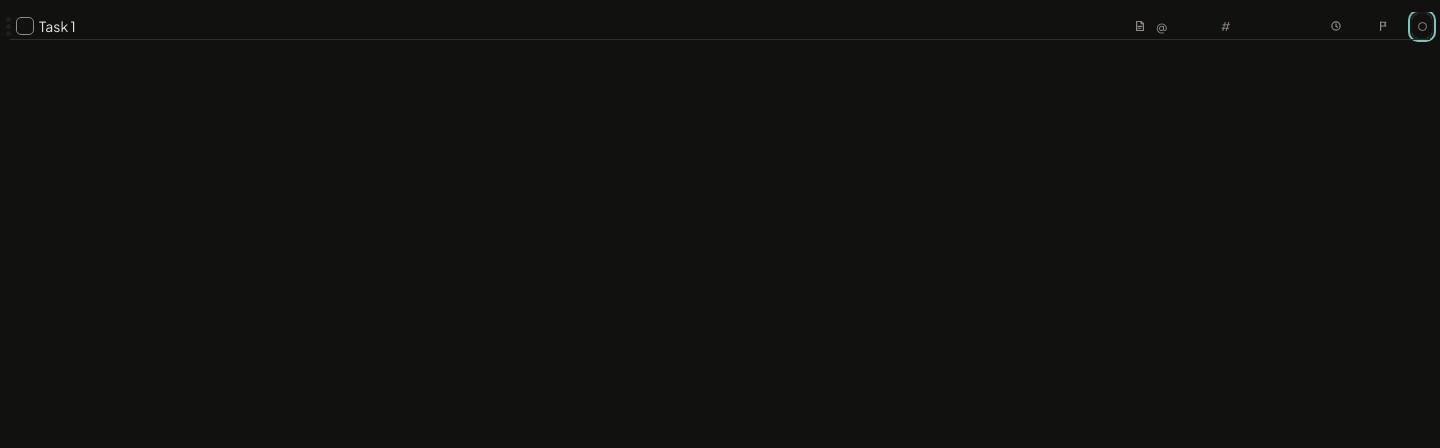
Test: TaskRow › task menu › has no ⋯ button: the context-menu key on a focused cell opens the menu; Esc returns focus to the cell
The width and height of the screenshot is (1440, 448).
Right-click the button named "Set status" at x=1422, y=26, box left=1412, top=14, right=1432, bottom=38
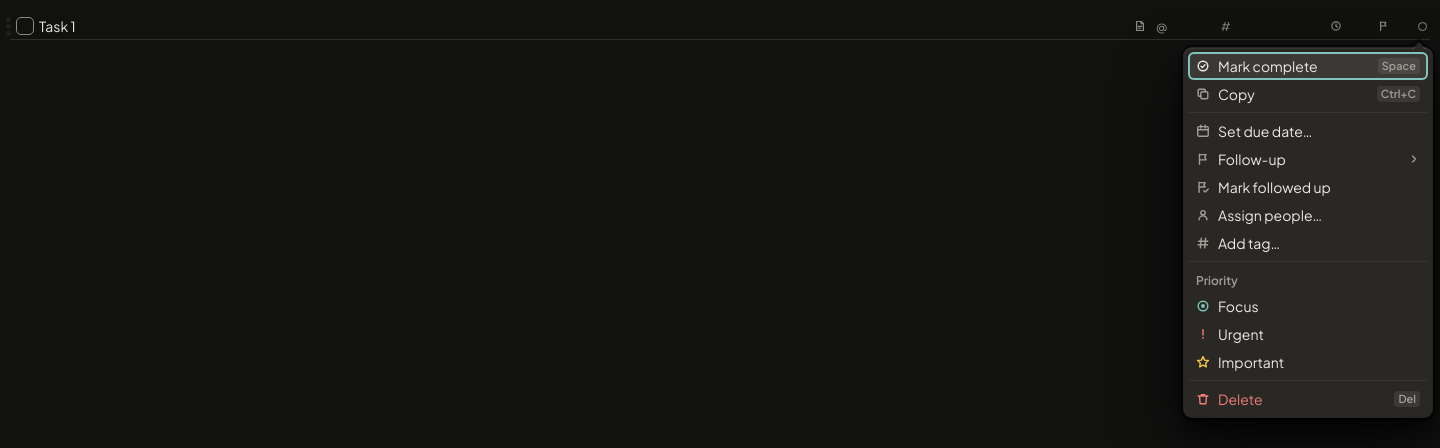
Press ArrowDown in the menu item "Mark complete Space", box left=1188, top=52, right=1428, bottom=80
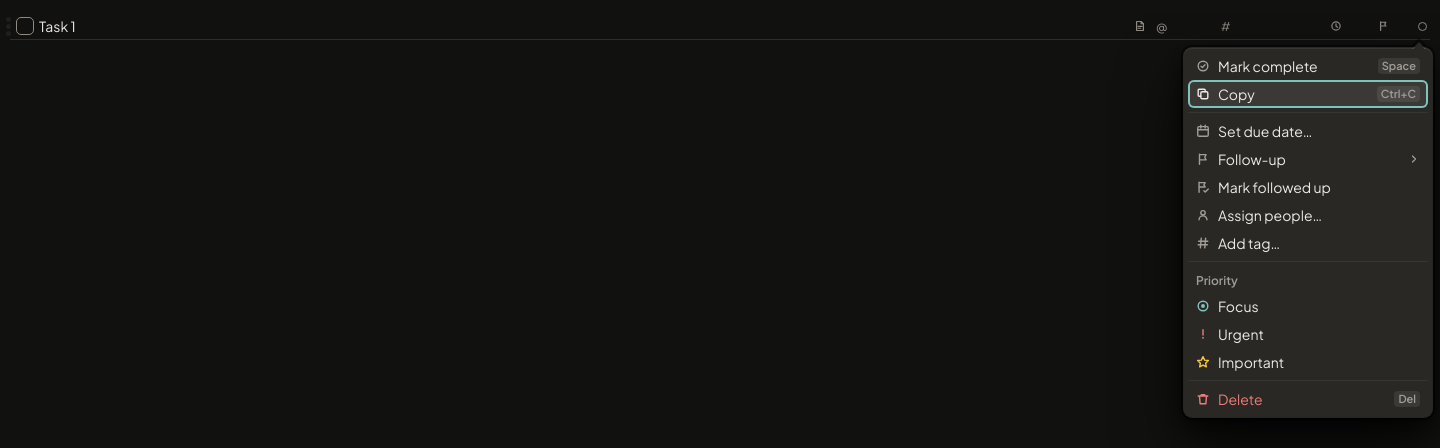
Press ArrowDown in the menu item "Copy Ctrl+C", box left=1188, top=80, right=1428, bottom=108
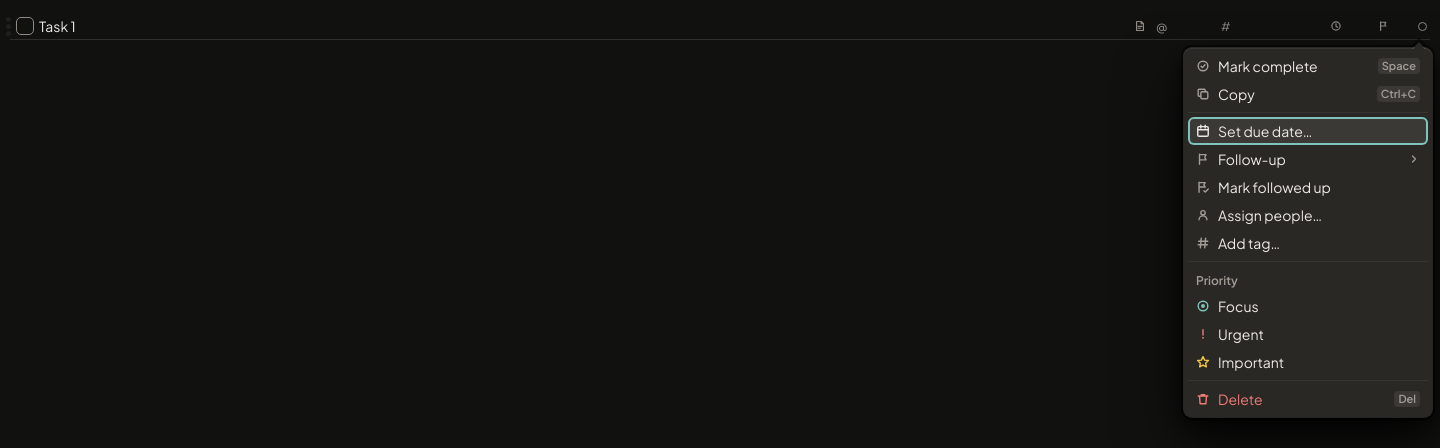
Press Escape in the menu item "Set due date…", box left=1188, top=117, right=1428, bottom=145
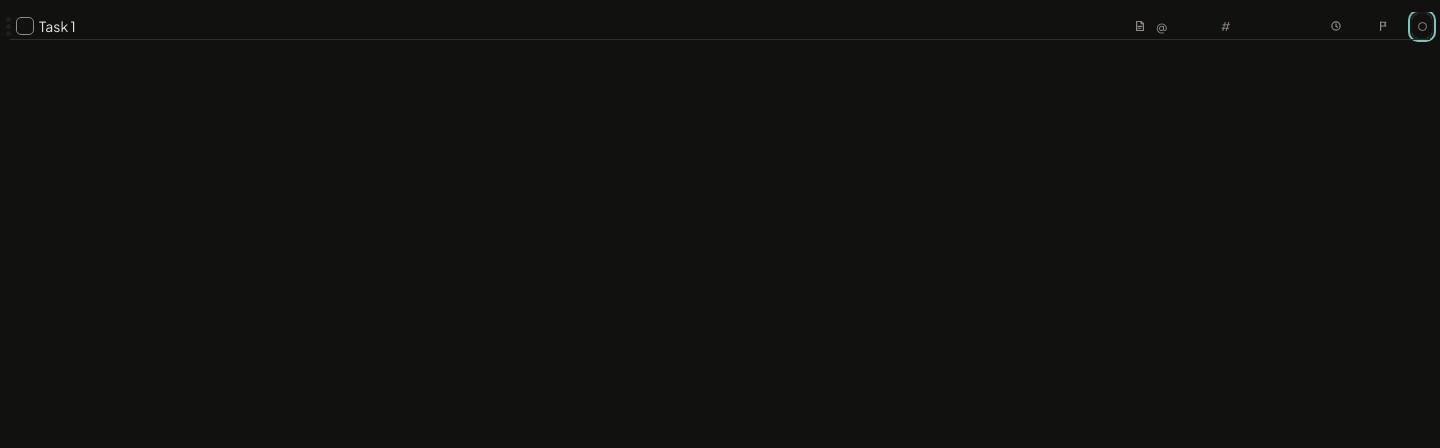
Now the menu is gone
